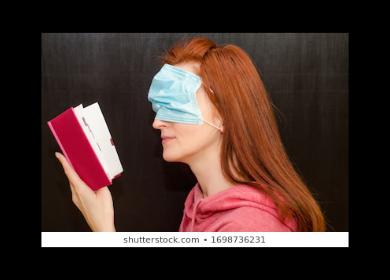mask_weared_incorrect: (145, 73, 203, 167)
